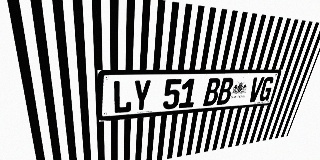1: (179, 78, 198, 108)
5: (163, 79, 182, 110)
B: (216, 78, 235, 105), (203, 78, 221, 106)
G: (258, 77, 275, 101)
L: (113, 80, 133, 114)
V: (247, 77, 265, 102)
Y: (132, 79, 152, 112)
